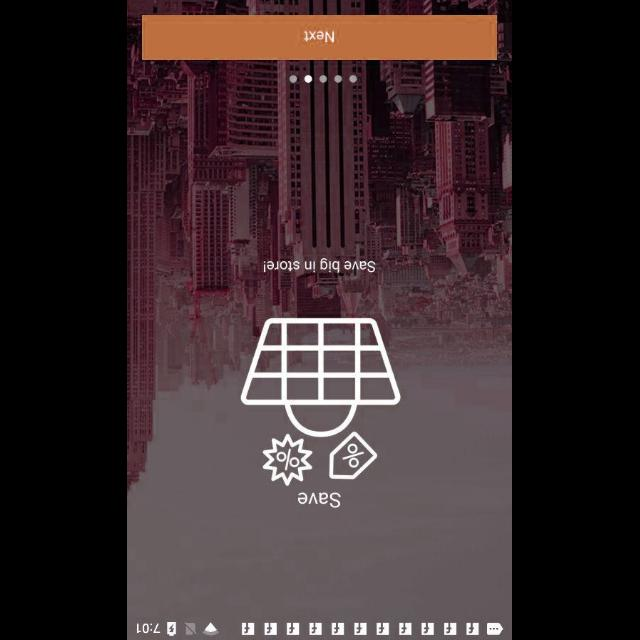backgroundimage: (128, 0, 512, 620)
image: (241, 316, 401, 486)
pageindicator: (290, 74, 358, 84)
text: (264, 257, 376, 273), (298, 490, 342, 508)
textbutton: (142, 15, 498, 60)
uppertaskbar: (128, 621, 512, 639)
